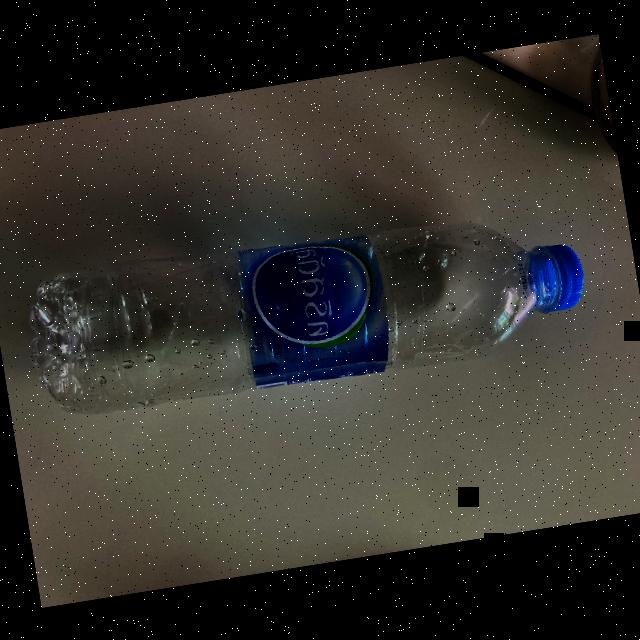plastic_bottle: (21, 184, 600, 438)
